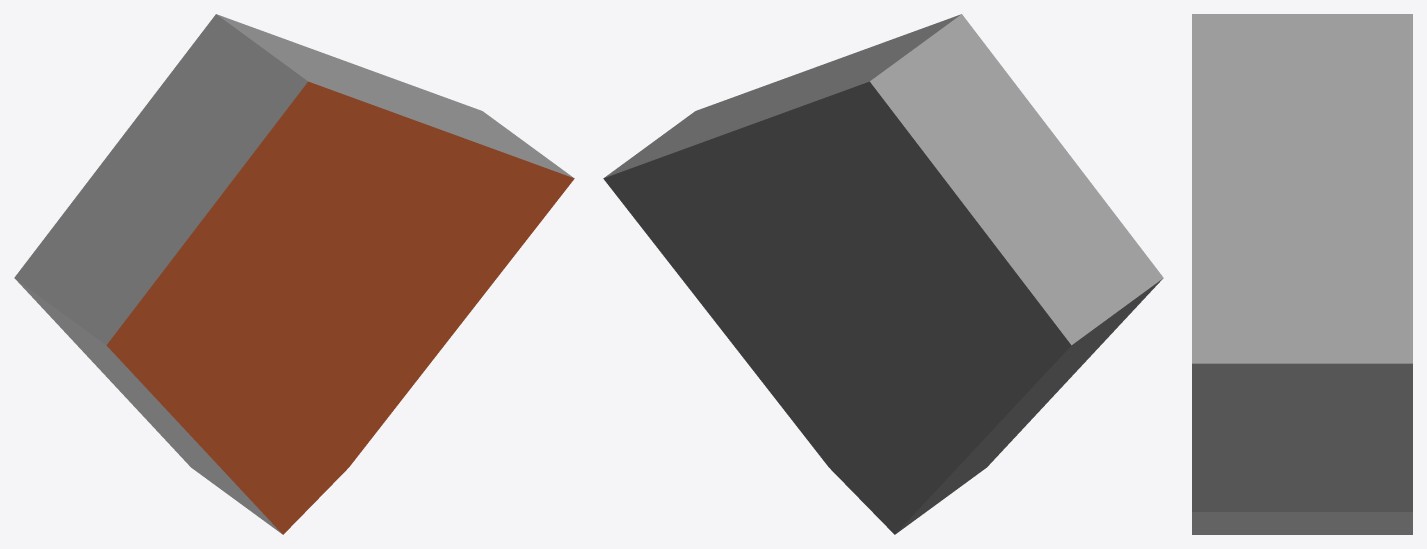
File: construction_5449_assumed_A_Casa_h6m.obj
The picture shows the model from 3 angles, left to right: view 1: azimuth 30°, elevation 25°; view 2: azimuth 150°, elevation 25°; view 3: azimuth 270°, elevation 25°; orthographic projection. The views are drawn at different scales.
Parts seen in each view (by area): view 1: construction_5449_assumed_A_Casa; view 2: construction_5449_assumed_A_Casa; view 3: construction_5449_assumed_A_Casa.
Part boxes in pixels (box(x1,y1,x2,y2)): construction_5449_assumed_A_Casa: box(14, 14, 574, 534); construction_5449_assumed_A_Casa: box(603, 14, 1163, 534); construction_5449_assumed_A_Casa: box(1192, 14, 1412, 534).
Size of the model in its own units: 17.6 by 16.06 by 6.
